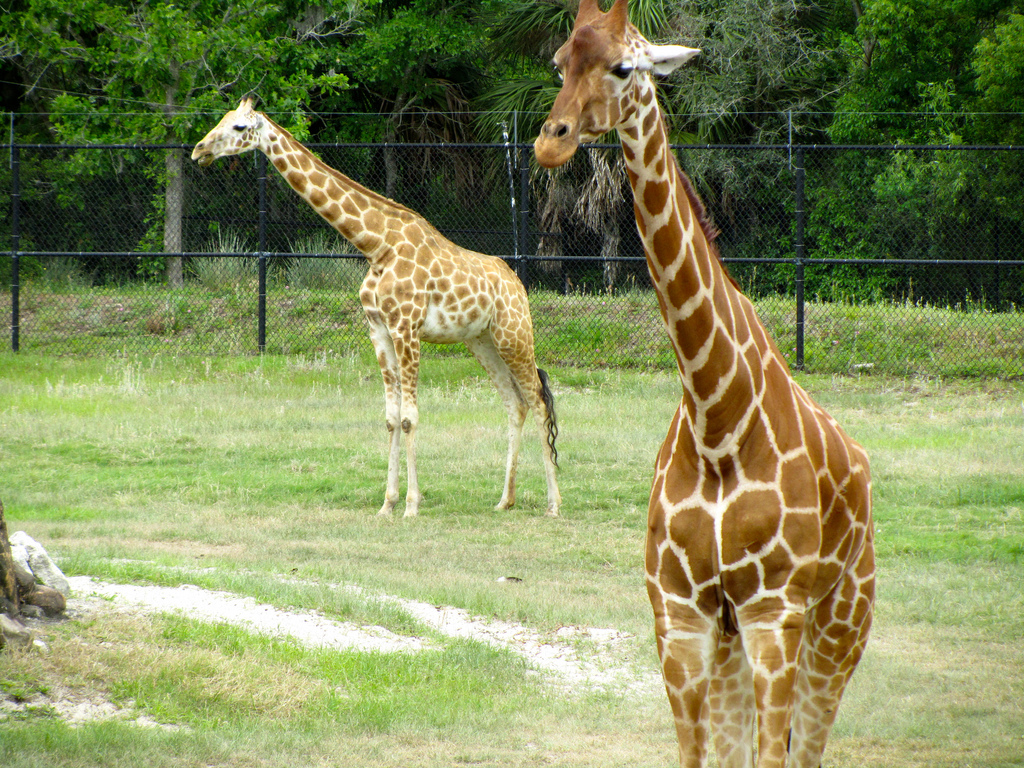giraffe: (529, 3, 922, 766), (165, 84, 605, 546)
